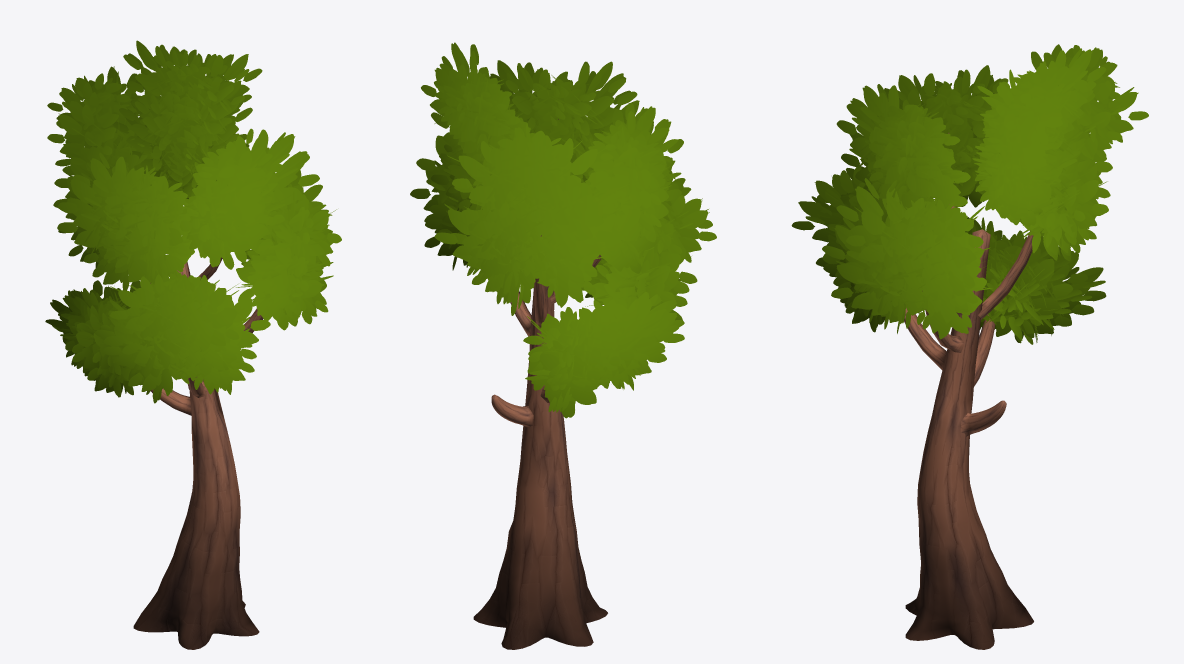
The model's file is commontree_5.gltf.
3 renders of one model, left to right at view 1: azimuth 30°, elevation 25°; view 2: azimuth 150°, elevation 25°; view 3: azimuth 270°, elevation 25°, orthographic. The views are drawn at different scales.
Parts seen in each view (by area): view 1: CommonTree_5; view 2: CommonTree_5; view 3: CommonTree_5.
Boxes of the visible parts, bbox=[...] form: CommonTree_5: bbox=[45, 40, 341, 649]; CommonTree_5: bbox=[410, 42, 716, 649]; CommonTree_5: bbox=[791, 44, 1148, 649].
Size of the model in its own units: 3.67 by 7.01 by 4.22.
2 materials, 2 textured.
